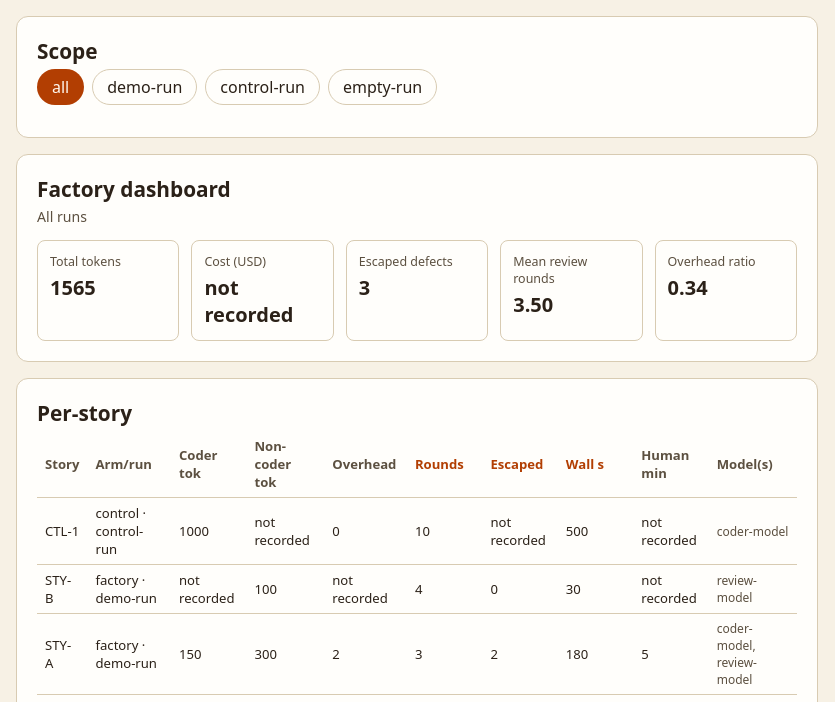
App composite › shows a friendly empty state for a scope with no data, not stale numbers
Expected: the button "demo-run" is shown, [92,69,197,105]
Click the button "empty-run". click: (383, 87)
box: [328,69,437,105]
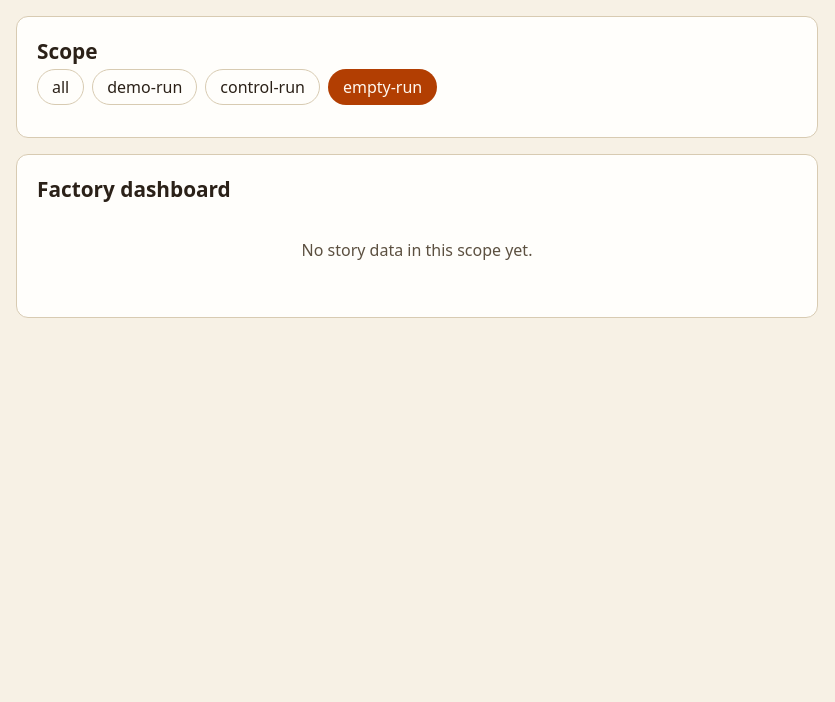
Expected: the text "No story data in this scope yet." is shown, [302,239,532,261]
Expected: the text "Total tokens" is gone
